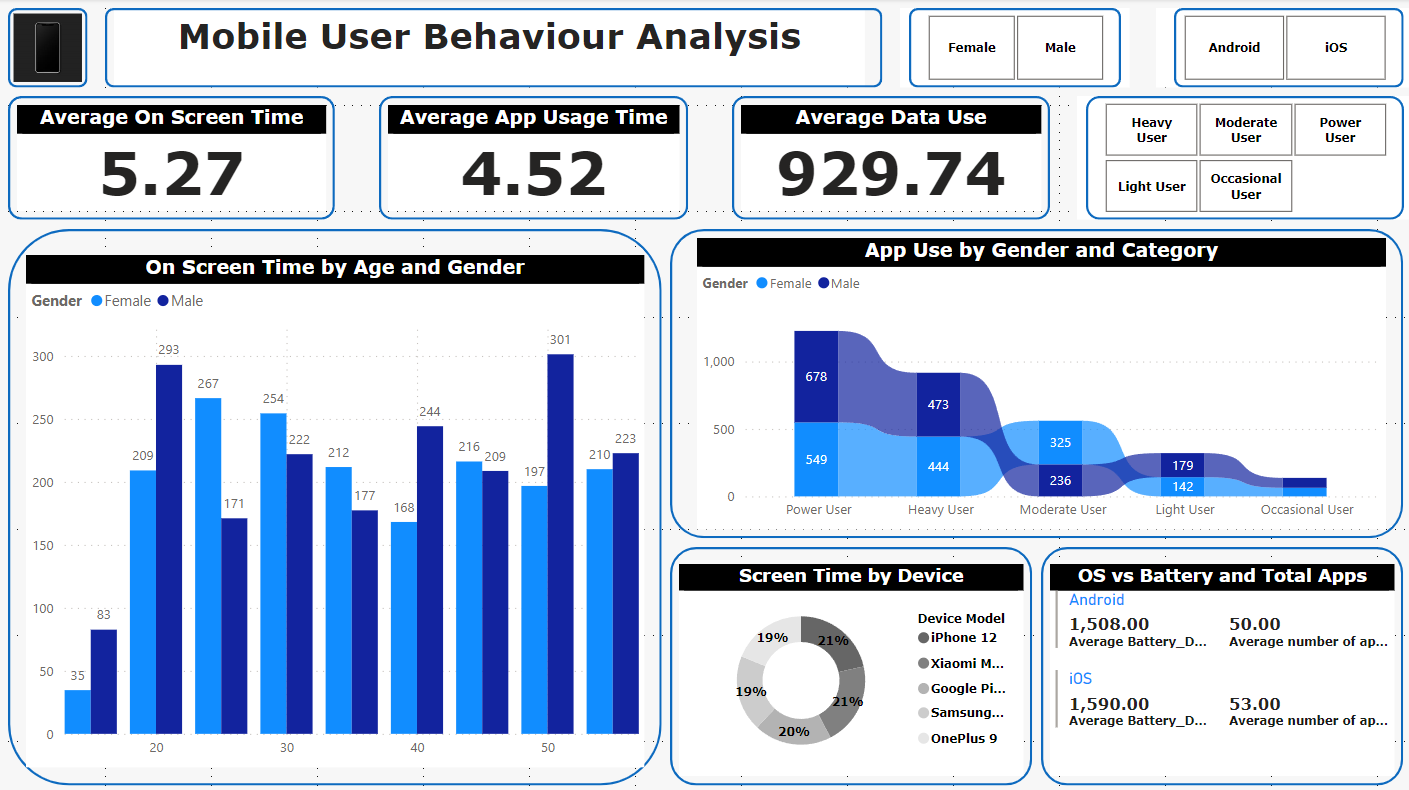

The dashboard page shown, as its layout file describes it:
{"tool":"powerbi","page":{"name":"Dashboard","canvas":[1280,720],"ordinal":0},"visuals":[{"type":"card","title":"Average On Screen Time","fields":{"Values":["Avg(user_behavior_data_P_E.Screen On Time (hours/day))"]},"box":[16,96,280,96],"z":0},{"type":"card","title":"Average Data Use","fields":{"Values":["Avg(user_behavior_data_P_E.Data Usage (MB/day))"]},"box":[672,96,272,96],"z":1000},{"type":"shape","box":[664,88,288,112],"z":2000},{"type":"slicer","fields":{"Values":["user_behavior_data_P_E.Gender"]},"box":[816,8,208,72],"z":3000},{"type":"shape","box":[8,208,592,504],"z":4000},{"type":"textbox","box":[104,8,680,72],"z":5000},{"type":"shape","box":[96,8,704,72],"z":6000},{"type":"clusteredColumnChart","title":"On Screen Time by Age and Gender","fields":{"Category":["user_behavior_data_P_E.Age (bins)"],"Y":["Sum(user_behavior_data_P_E.Screen On Time (hours/day))"],"Series":["user_behavior_data_P_E.Gender"]},"box":[24,232,560,464],"z":7000},{"type":"shape","box":[608,496,328,216],"z":8000},{"type":"donutChart","title":"Screen Time by Device","fields":{"Category":["user_behavior_data_P_E.Device Model"],"Y":["Sum(user_behavior_data_P_E.Screen On Time (hours/day))"]},"box":[616,512,312,192],"z":9000},{"type":"shape","box":[944,496,328,216],"z":10000},{"type":"multiRowCard","title":"OS vs Battery and Total Apps","fields":{"Values":["user_behavior_data_P_E.Operating System","Measures_.Average Battery_Drain (mAh/Day)","Measures_.Average number of apps_installed"]},"box":[952,512,312,192],"z":11000},{"type":"shape","box":[608,208,664,280],"z":12000},{"type":"slicer","fields":{"Values":["user_behavior_data_P_E.User Behaviour Catagory"]},"box":[976,88,304,112],"z":13000},{"type":"ribbonChart","title":"App Use by Gender and Category","fields":{"Category":["user_behavior_data_P_E.User Behaviour Catagory"],"Y":["Sum(user_behavior_data_P_E.App Usage Time (Hrs/day))"],"Series":["user_behavior_data_P_E.Gender"]},"box":[632,216,624,264],"z":14000},{"type":"shape","box":[8,88,296,112],"z":15000},{"type":"slicer","fields":{"Values":["user_behavior_data_P_E.Operating System"]},"box":[1048,8,232,72],"z":16000},{"type":"card","title":"Average App Usage Time","fields":{"Values":["Avg(user_behavior_data_P_E.App Usage Time (Hrs/day))"]},"box":[352,96,264,96],"z":17000},{"type":"shape","box":[344,88,280,112],"z":18000},{"type":"shape","box":[984,88,288,112],"z":19000},{"type":"shape","box":[1064,8,208,72],"z":20000},{"type":"shape","box":[824,8,192,72],"z":21000},{"type":"image","box":[8,8,72,72],"z":22000},{"type":"shape","box":[8,8,72,72],"z":23000}]}

Visuals, with their boxes in screenshot pixels (x1, y1, x2, y2), scaled from the page's 1280x720 canvas onto the 1409x790 screenshot:
"Average On Screen Time" card: pyautogui.locateOnScreen(18, 105, 326, 211)
"Average Data Use" card: pyautogui.locateOnScreen(740, 105, 1039, 211)
shape: pyautogui.locateOnScreen(731, 97, 1048, 219)
slicer - user_behavior_data_P_E.Gender: pyautogui.locateOnScreen(898, 9, 1127, 88)
shape: pyautogui.locateOnScreen(9, 228, 660, 781)
textbox: pyautogui.locateOnScreen(114, 9, 863, 88)
shape: pyautogui.locateOnScreen(106, 9, 881, 88)
"On Screen Time by Age and Gender" clusteredColumnChart: pyautogui.locateOnScreen(26, 255, 643, 764)
shape: pyautogui.locateOnScreen(669, 544, 1030, 781)
"Screen Time by Device" donutChart: pyautogui.locateOnScreen(678, 562, 1022, 772)
shape: pyautogui.locateOnScreen(1039, 544, 1400, 781)
"OS vs Battery and Total Apps" multiRowCard: pyautogui.locateOnScreen(1048, 562, 1391, 772)
shape: pyautogui.locateOnScreen(669, 228, 1400, 535)
slicer - user_behavior_data_P_E.User Behaviour Catagory: pyautogui.locateOnScreen(1074, 97, 1408, 219)
"App Use by Gender and Category" ribbonChart: pyautogui.locateOnScreen(696, 237, 1383, 527)
shape: pyautogui.locateOnScreen(9, 97, 335, 219)
slicer - user_behavior_data_P_E.Operating System: pyautogui.locateOnScreen(1154, 9, 1408, 88)
"Average App Usage Time" card: pyautogui.locateOnScreen(387, 105, 678, 211)
shape: pyautogui.locateOnScreen(379, 97, 687, 219)
shape: pyautogui.locateOnScreen(1083, 97, 1400, 219)
shape: pyautogui.locateOnScreen(1171, 9, 1400, 88)
shape: pyautogui.locateOnScreen(907, 9, 1118, 88)
image: pyautogui.locateOnScreen(9, 9, 88, 88)
shape: pyautogui.locateOnScreen(9, 9, 88, 88)
